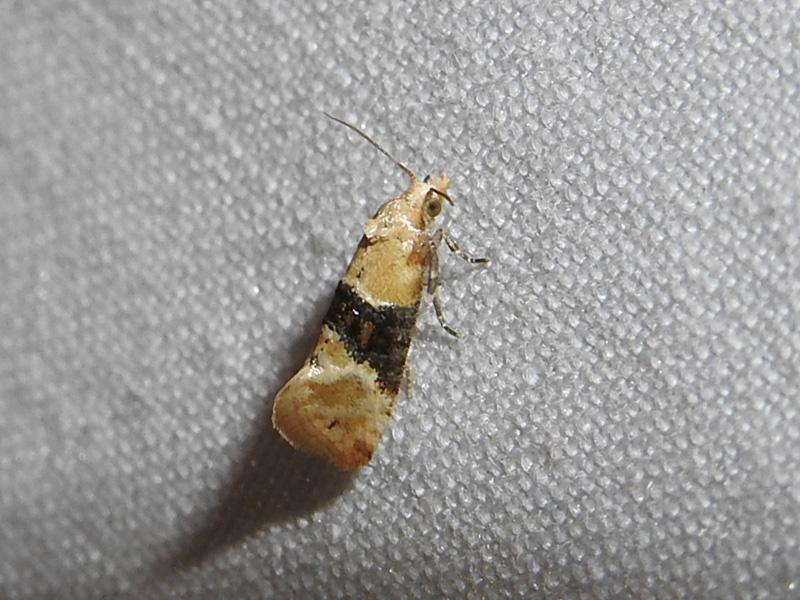Eupoecilia Ambiguella: (266, 107, 493, 475)
